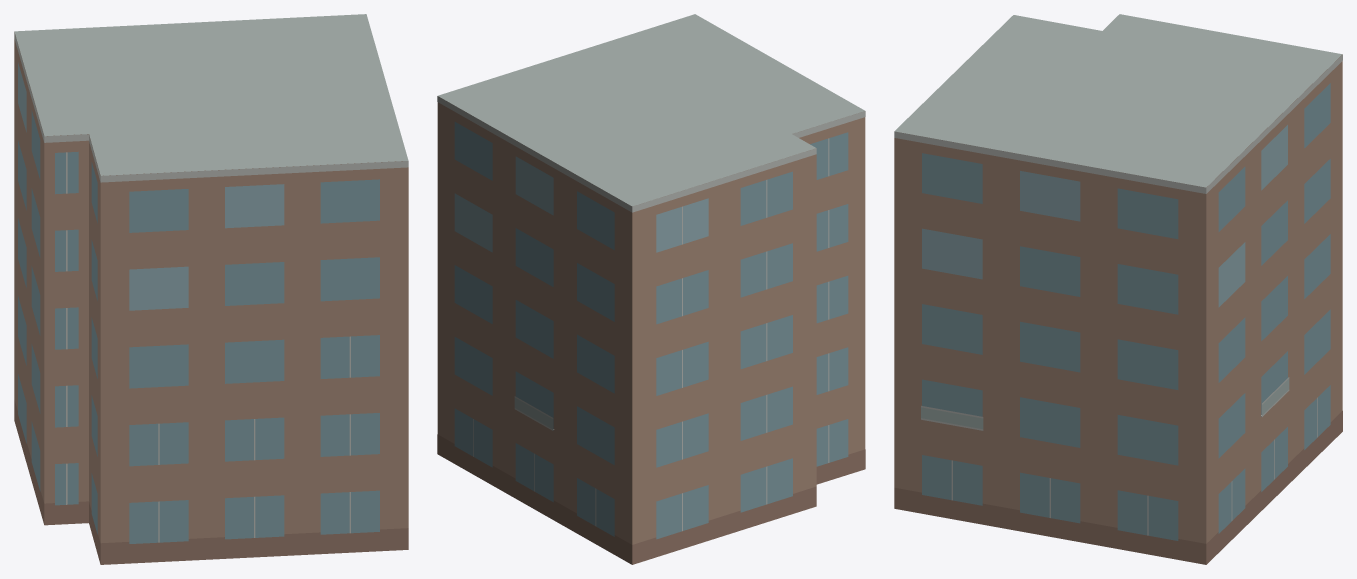
Rendered from survey-upis-32562499.glb.
3 views of the same model, side by side, from view 1: azimuth 30°, elevation 25°; view 2: azimuth 150°, elevation 25°; view 3: azimuth 270°, elevation 25° (orthographic). The views are drawn at different scales.
Visible parts, largest first — view 1: survey-upis-32562499.tmp; view 2: survey-upis-32562499.tmp; view 3: survey-upis-32562499.tmp.
Part boxes in pixels (x1=…): survey-upis-32562499.tmp: x1=14, y1=14, x2=408, y2=564; survey-upis-32562499.tmp: x1=437, y1=14, x2=865, y2=564; survey-upis-32562499.tmp: x1=894, y1=14, x2=1342, y2=564.
Bounding box in the file's own units: 14.07 × 14.25 × 15.36.
